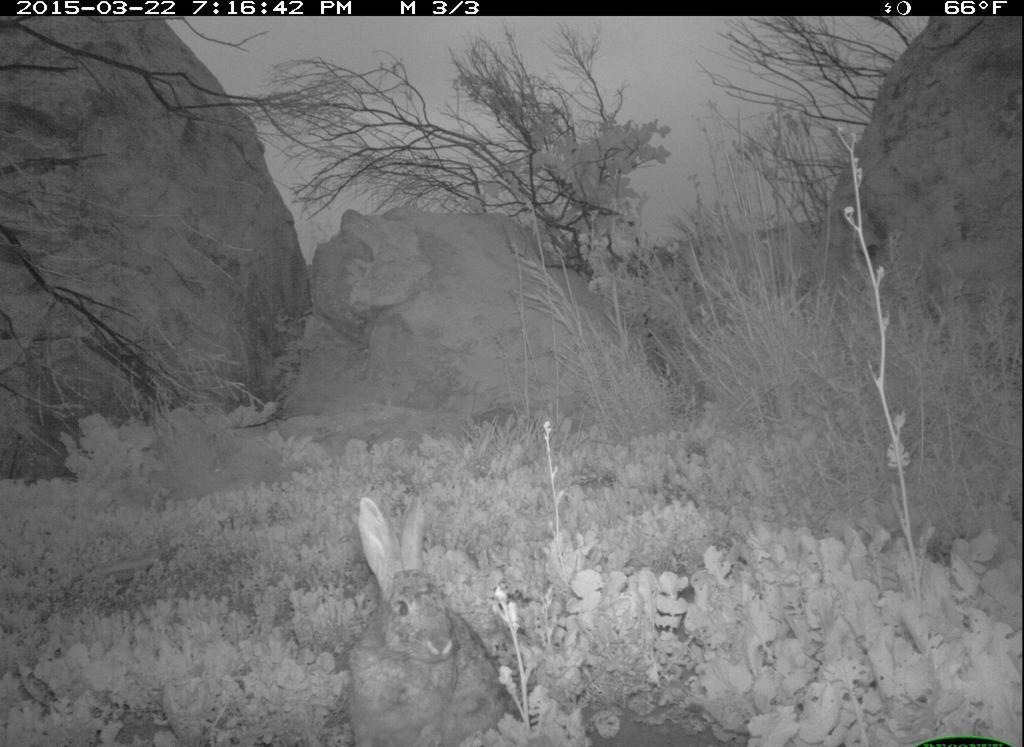rabbit: (342, 491, 519, 740)
